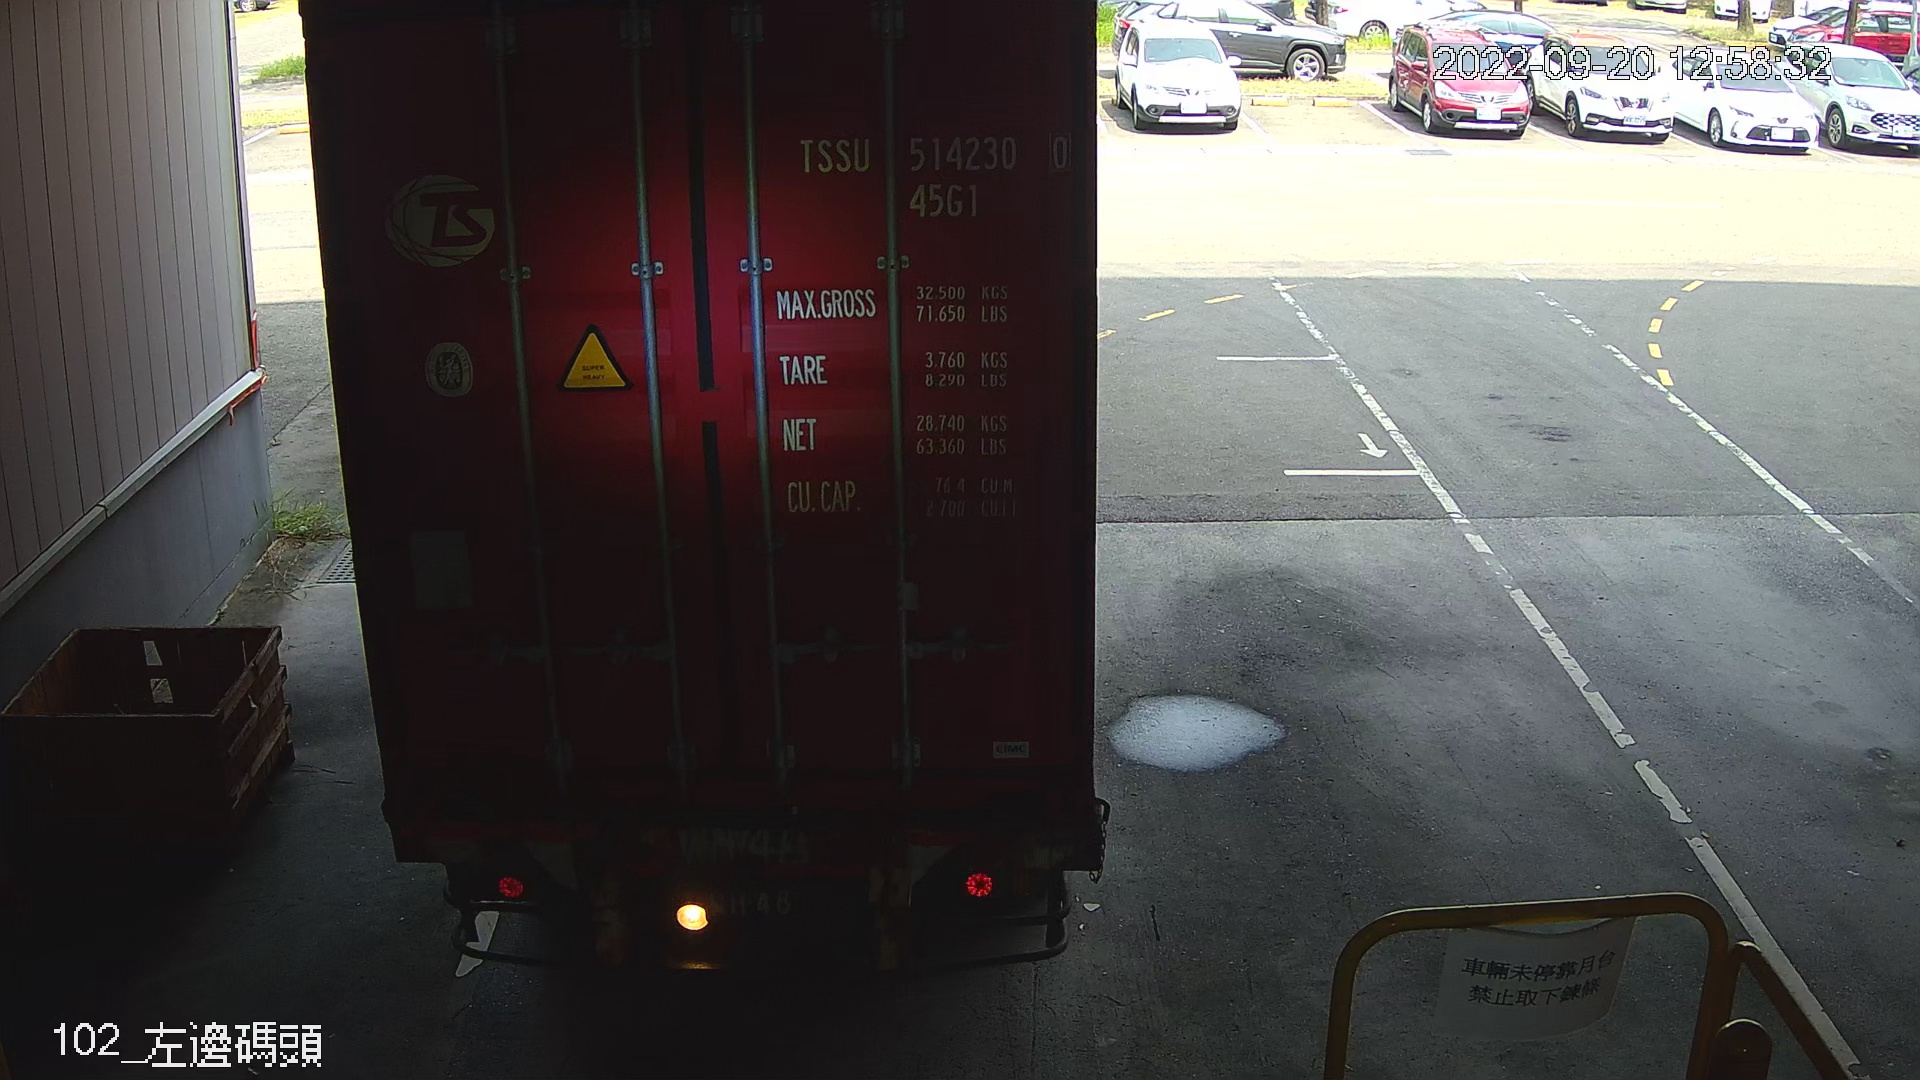container: (782, 119, 1084, 223)
